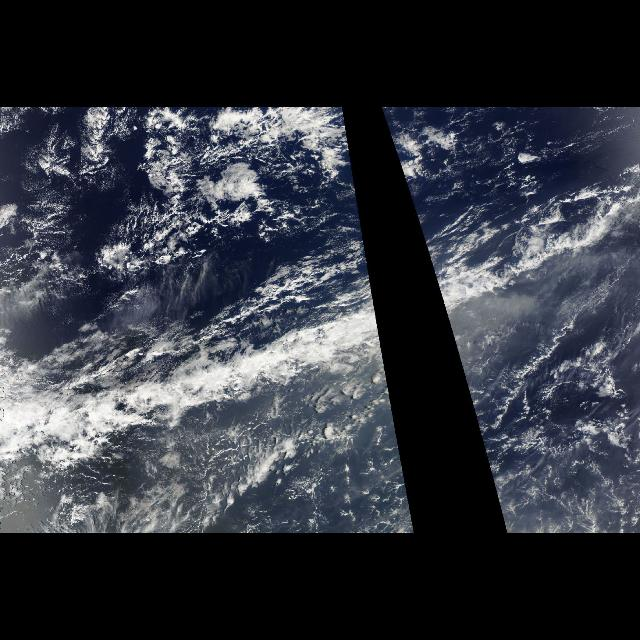Gravel: (444, 312, 640, 534)
